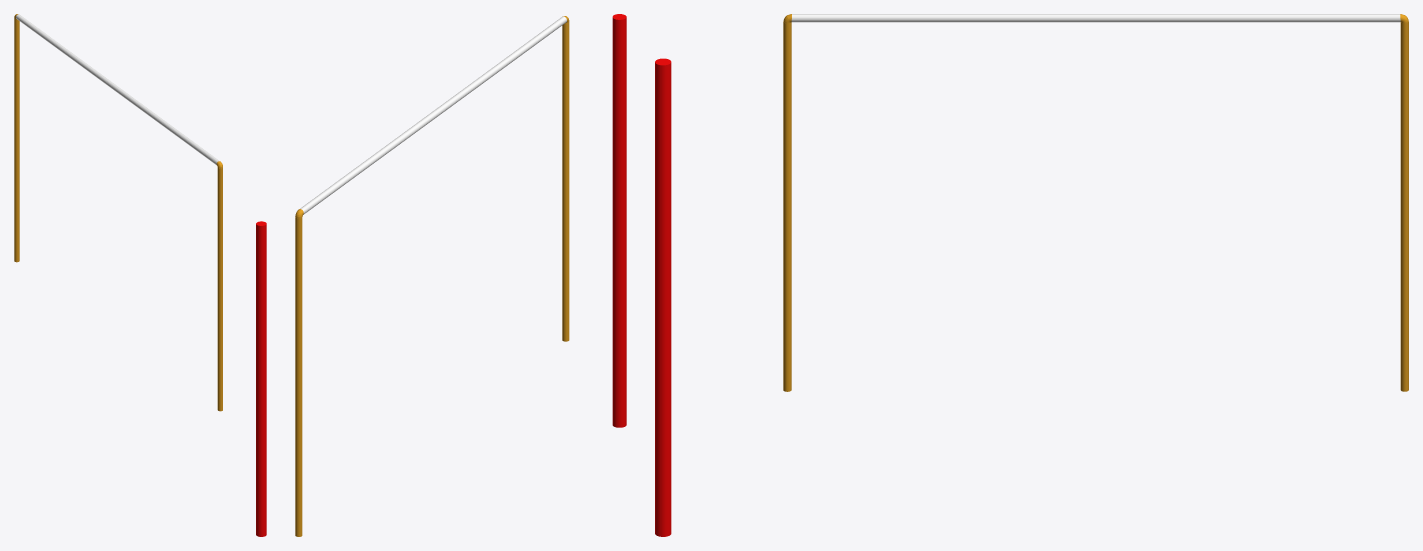
Rendered from sauvc_qualifier_gate_initial.fbx.
3 renders of one model, left to right at view 1: azimuth 30°, elevation 25°; view 2: azimuth 150°, elevation 25°; view 3: azimuth 270°, elevation 25°, orthographic. The views are drawn at different scales.
Parts seen in each view (by area): view 1: Cylinder.002, Cylinder.003; view 2: Cylinder.002, Cylinder.003; view 3: Cylinder.002, Cylinder.003.
Boxes of the visible parts, left/top/right/bottom form: Cylinder.002: left=14, top=14, right=222, bottom=411; Cylinder.003: left=256, top=221, right=266, bottom=536; Cylinder.002: left=295, top=16, right=569, bottom=536; Cylinder.003: left=612, top=14, right=626, bottom=427; Cylinder.002: left=783, top=14, right=1408, bottom=391; Cylinder.003: left=655, top=58, right=671, bottom=536.
Bounding box in the file's own units: 4 × 141 × 185.
